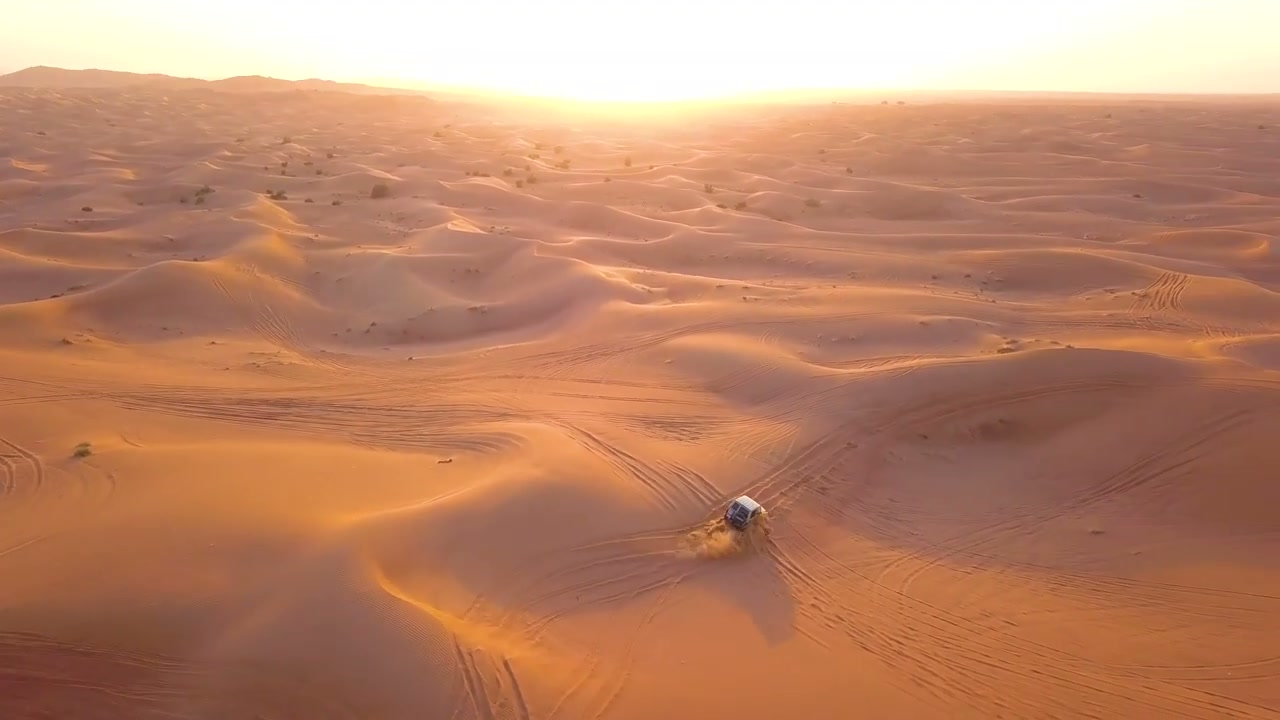vehicle_track: (770, 525, 1258, 719), (778, 547, 1250, 716), (881, 409, 1254, 593), (566, 433, 856, 570), (454, 552, 690, 719), (911, 641, 1252, 717), (108, 388, 514, 451), (957, 551, 1279, 622), (1056, 408, 1256, 514), (542, 579, 679, 719), (213, 277, 386, 379), (0, 632, 198, 719), (867, 378, 1166, 435), (512, 318, 795, 378), (581, 579, 680, 719), (0, 436, 115, 555), (563, 424, 718, 511), (250, 301, 383, 378), (1126, 272, 1257, 338), (451, 637, 529, 719), (433, 370, 699, 393), (1011, 311, 1202, 336), (596, 412, 741, 442), (1122, 656, 1279, 682), (715, 418, 798, 464), (0, 437, 45, 508), (0, 376, 94, 406), (541, 391, 703, 407), (1129, 272, 1188, 314), (0, 392, 84, 406)
